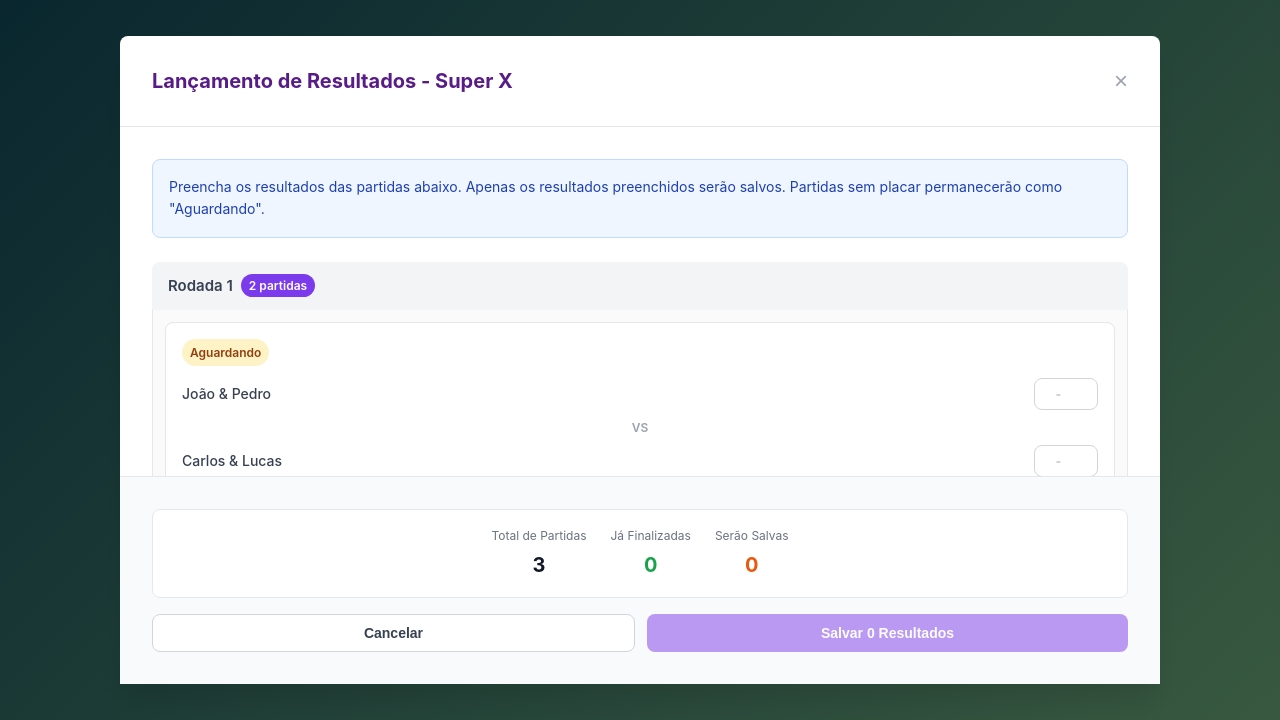
Test: ModalLancamentoResultadosLoteSuperX › loading › deve mostrar spinner durante salvamento
Type "6" into the number field with placeholder "-" in the row of "Pedro" at (1066, 394), box [1034,378,1098,410]
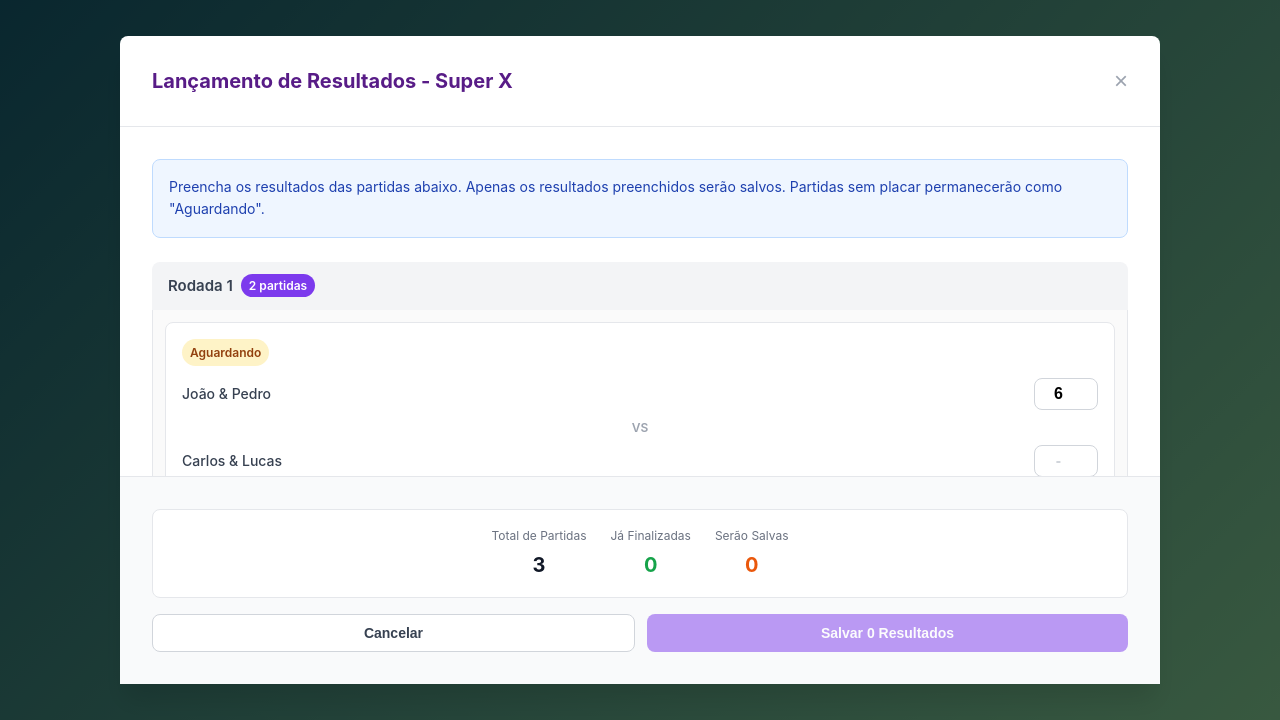
Type "4" into the number field with placeholder "-" at (1066, 461), box [1034,445,1098,477]
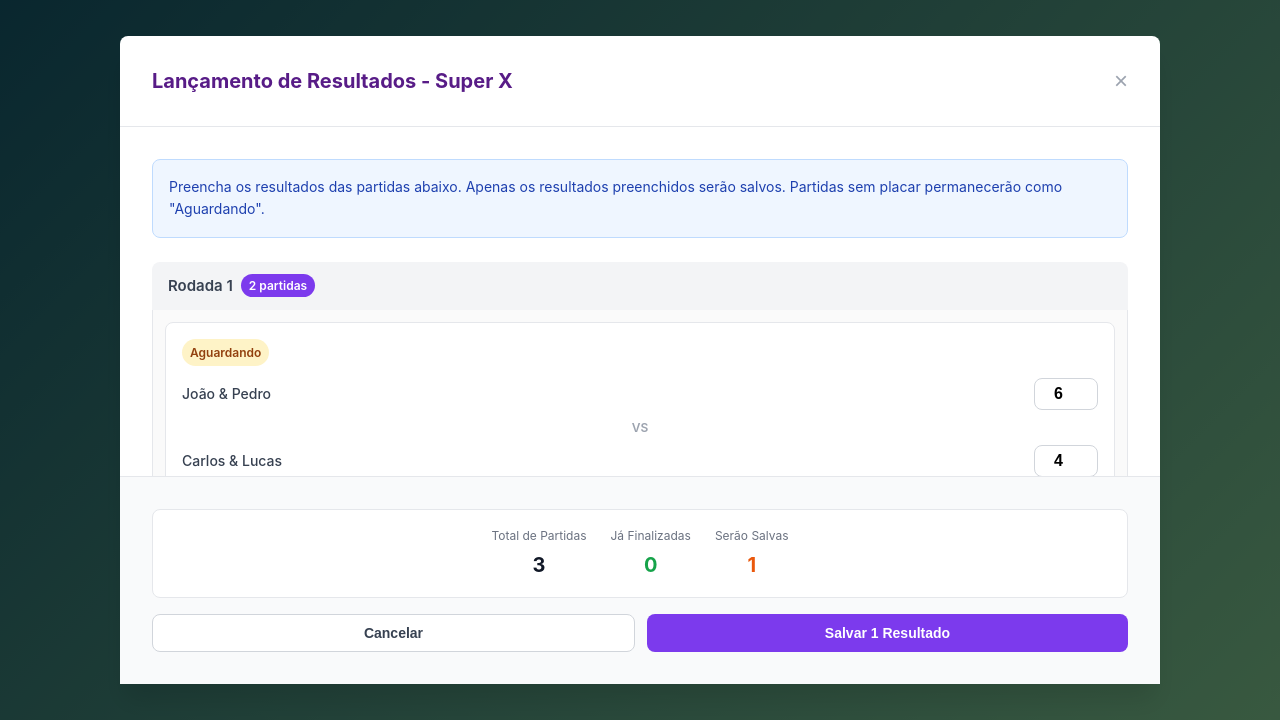
Click the button "Salvar 1 Resultado" at (888, 633), box [647,614,1128,652]
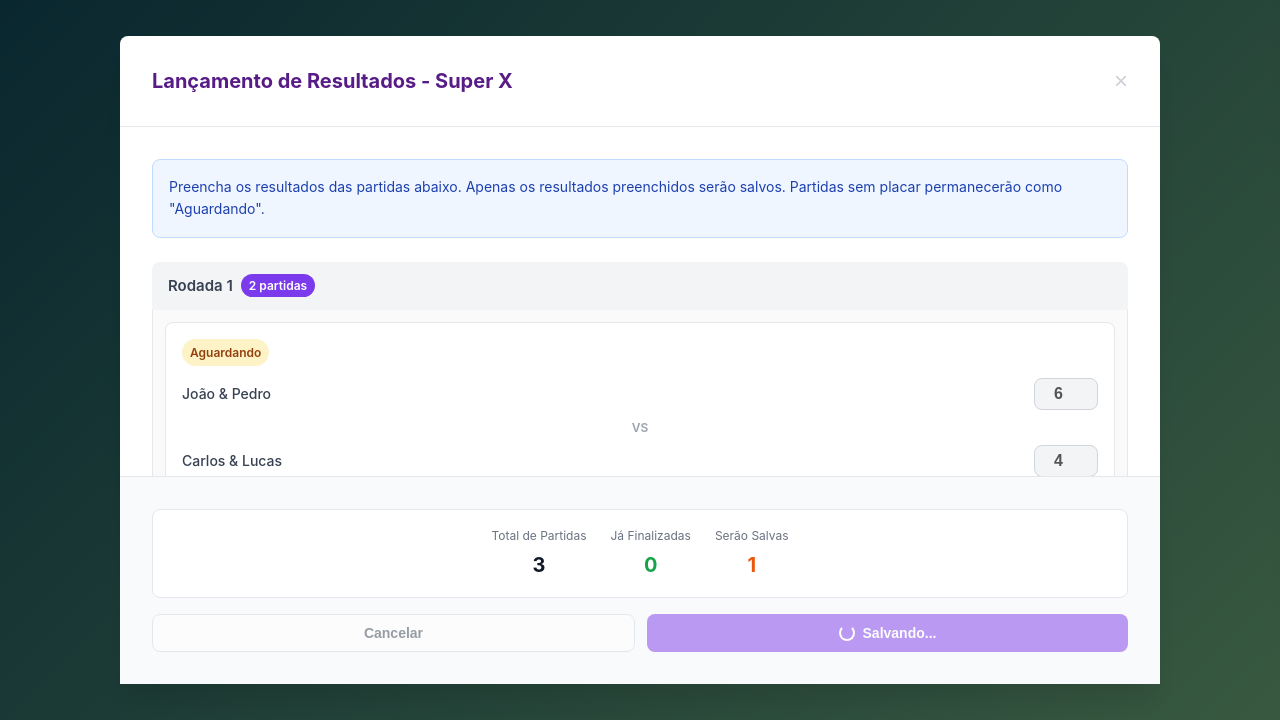
Expected: the text "Salvando..." is shown, [862,625,936,641]
